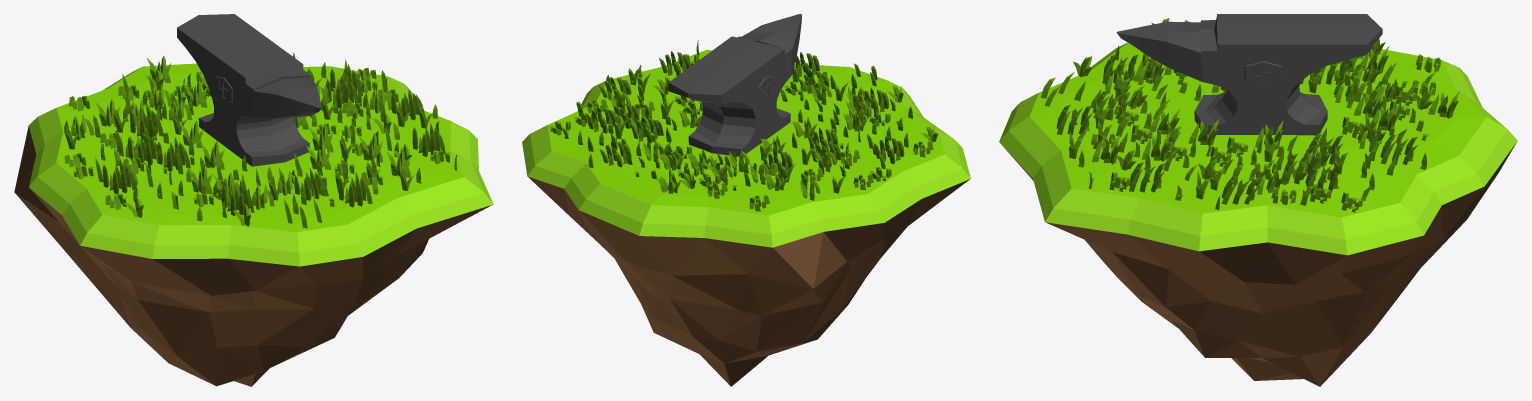
File: anvil.glb
3 views of the same model, side by side, from view 1: azimuth 30°, elevation 25°; view 2: azimuth 150°, elevation 25°; view 3: azimuth 270°, elevation 25° (orthographic). The views are drawn at different scales.
Visible parts, largest first — view 1: island, Cube, GrassBunch7.007, GrassBunch7.012, GrassBunch7.001, GrassBunch7.005, GrassBunch7.010, GrassBunch7.013, GrassBunch7.006, GrassBunch7.008, GrassBunch7.011, GrassBunch7.002 (+1 smaller); view 2: island, Cube, GrassBunch7.012, GrassBunch7.004, GrassBunch7.003, GrassBunch7.009, GrassBunch7.001, GrassBunch7.005, GrassBunch7.002, GrassBunch7.010, GrassBunch7.007; view 3: island, Cube, GrassBunch7.002, GrassBunch7.004, GrassBunch7.007, GrassBunch7.001, GrassBunch7.003, GrassBunch7.006, GrassBunch7.005, GrassBunch4.010, GrassBunch7.008, GrassBunch7.009 (+3 smaller).
Part boxes in pixels (x1,y1,x2,y2): island: (14,63,493,386); Cube: (177,14,321,166); GrassBunch7.007: (338,172,372,207); GrassBunch7.012: (102,158,135,194); GrassBunch7.001: (412,123,445,157); GrassBunch7.005: (222,180,254,216); GrassBunch7.010: (129,104,163,139); GrassBunch7.013: (157,136,190,171); GrassBunch7.006: (294,168,328,200); GrassBunch7.008: (326,74,359,108); GrassBunch7.011: (127,131,157,164); GrassBunch7.002: (391,89,423,120); island: (522,49,970,386); Cube: (668,14,801,156); GrassBunch7.012: (873,136,904,164); GrassBunch7.004: (599,141,631,167); GrassBunch7.003: (586,107,616,133); GrassBunch7.009: (630,116,661,143); GrassBunch7.001: (659,51,690,75); GrassBunch7.005: (858,87,889,112); GrassBunch7.002: (598,77,631,101); GrassBunch7.010: (762,150,792,177); GrassBunch7.007: (794,52,819,78); island: (999,42,1517,386); Cube: (1116,14,1382,135); GrassBunch7.002: (1221,175,1259,204); GrassBunch7.004: (1380,135,1417,165); GrassBunch7.007: (1056,104,1092,135); GrassBunch7.001: (1129,162,1165,192); GrassBunch7.003: (1306,163,1341,192); GrassBunch7.006: (1093,90,1131,119); GrassBunch7.005: (1102,54,1138,83); GrassBunch4.010: (1092,135,1120,164); GrassBunch7.008: (1285,154,1319,184); GrassBunch7.009: (1309,134,1343,164).
Bounding box in the file's own units: 0.96 × 0.7433 × 0.9695.
4 materials, 1 textured.
